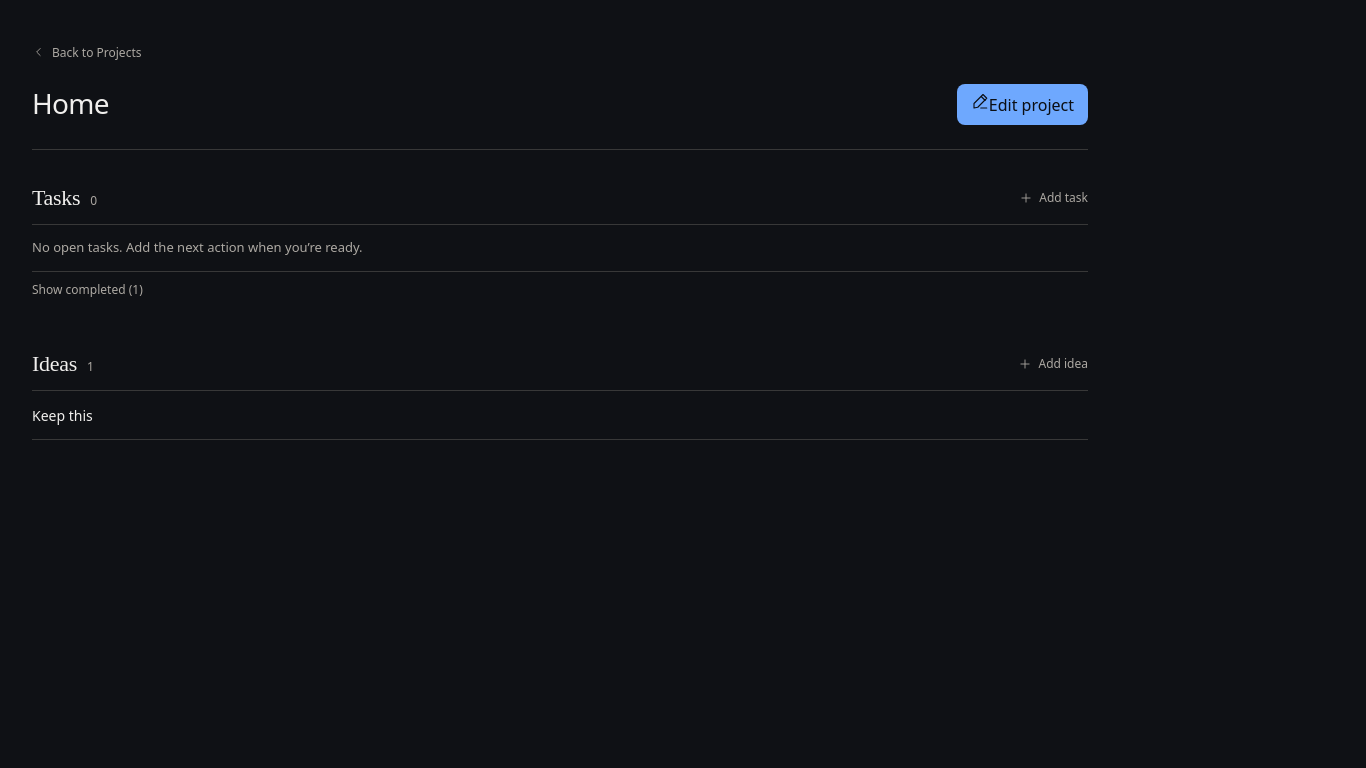
Test case: Collection pages › uses project context when creating an idea and presents completed tasks separately
The width and height of the screenshot is (1366, 768).
Expected: the button "Show completed (1)" is shown, [32,272,143,308]
Expected: the text "Keep this" is shown, [32,406,93,425]
Click the button "Add idea". click: (1053,364)
box: [1010,348,1096,380]
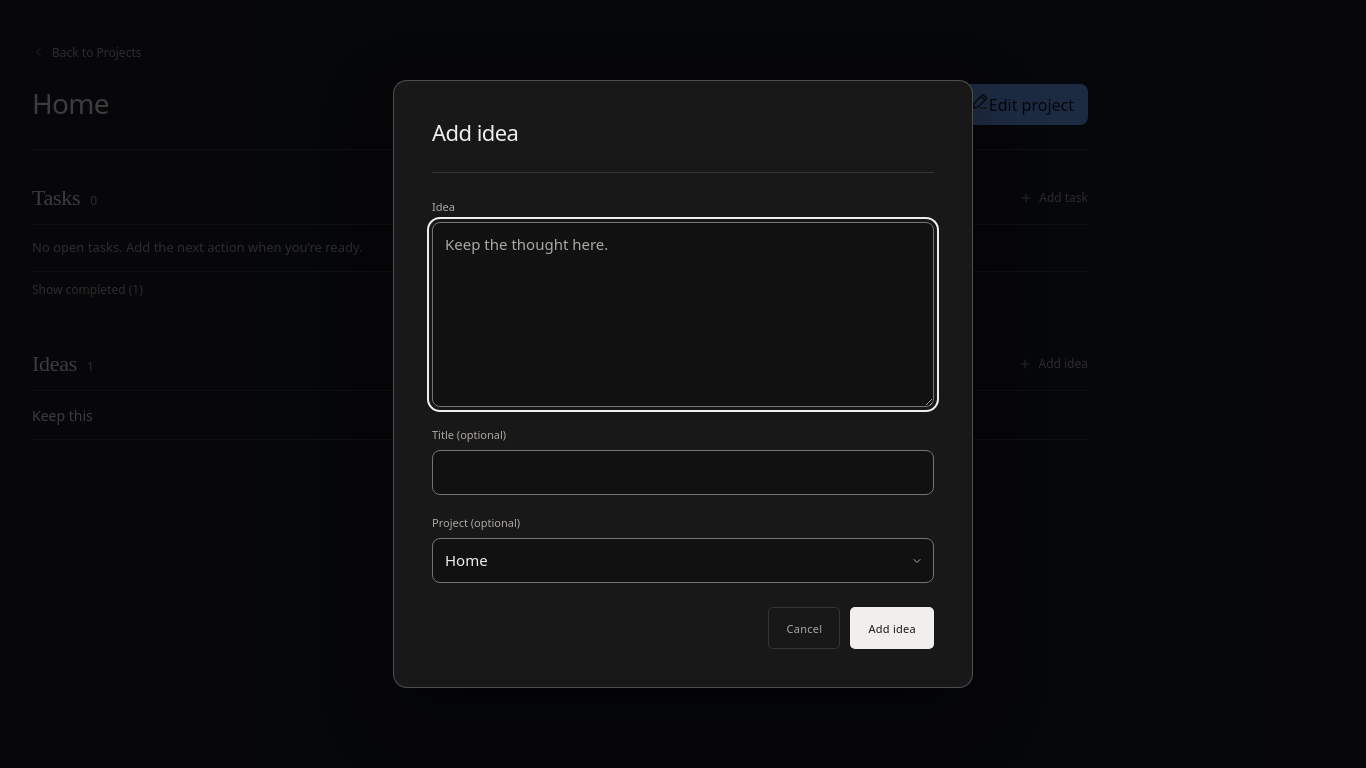
Now the dropdown labelled "Project (optional)" shows "Home", box [432,538,934,583]
